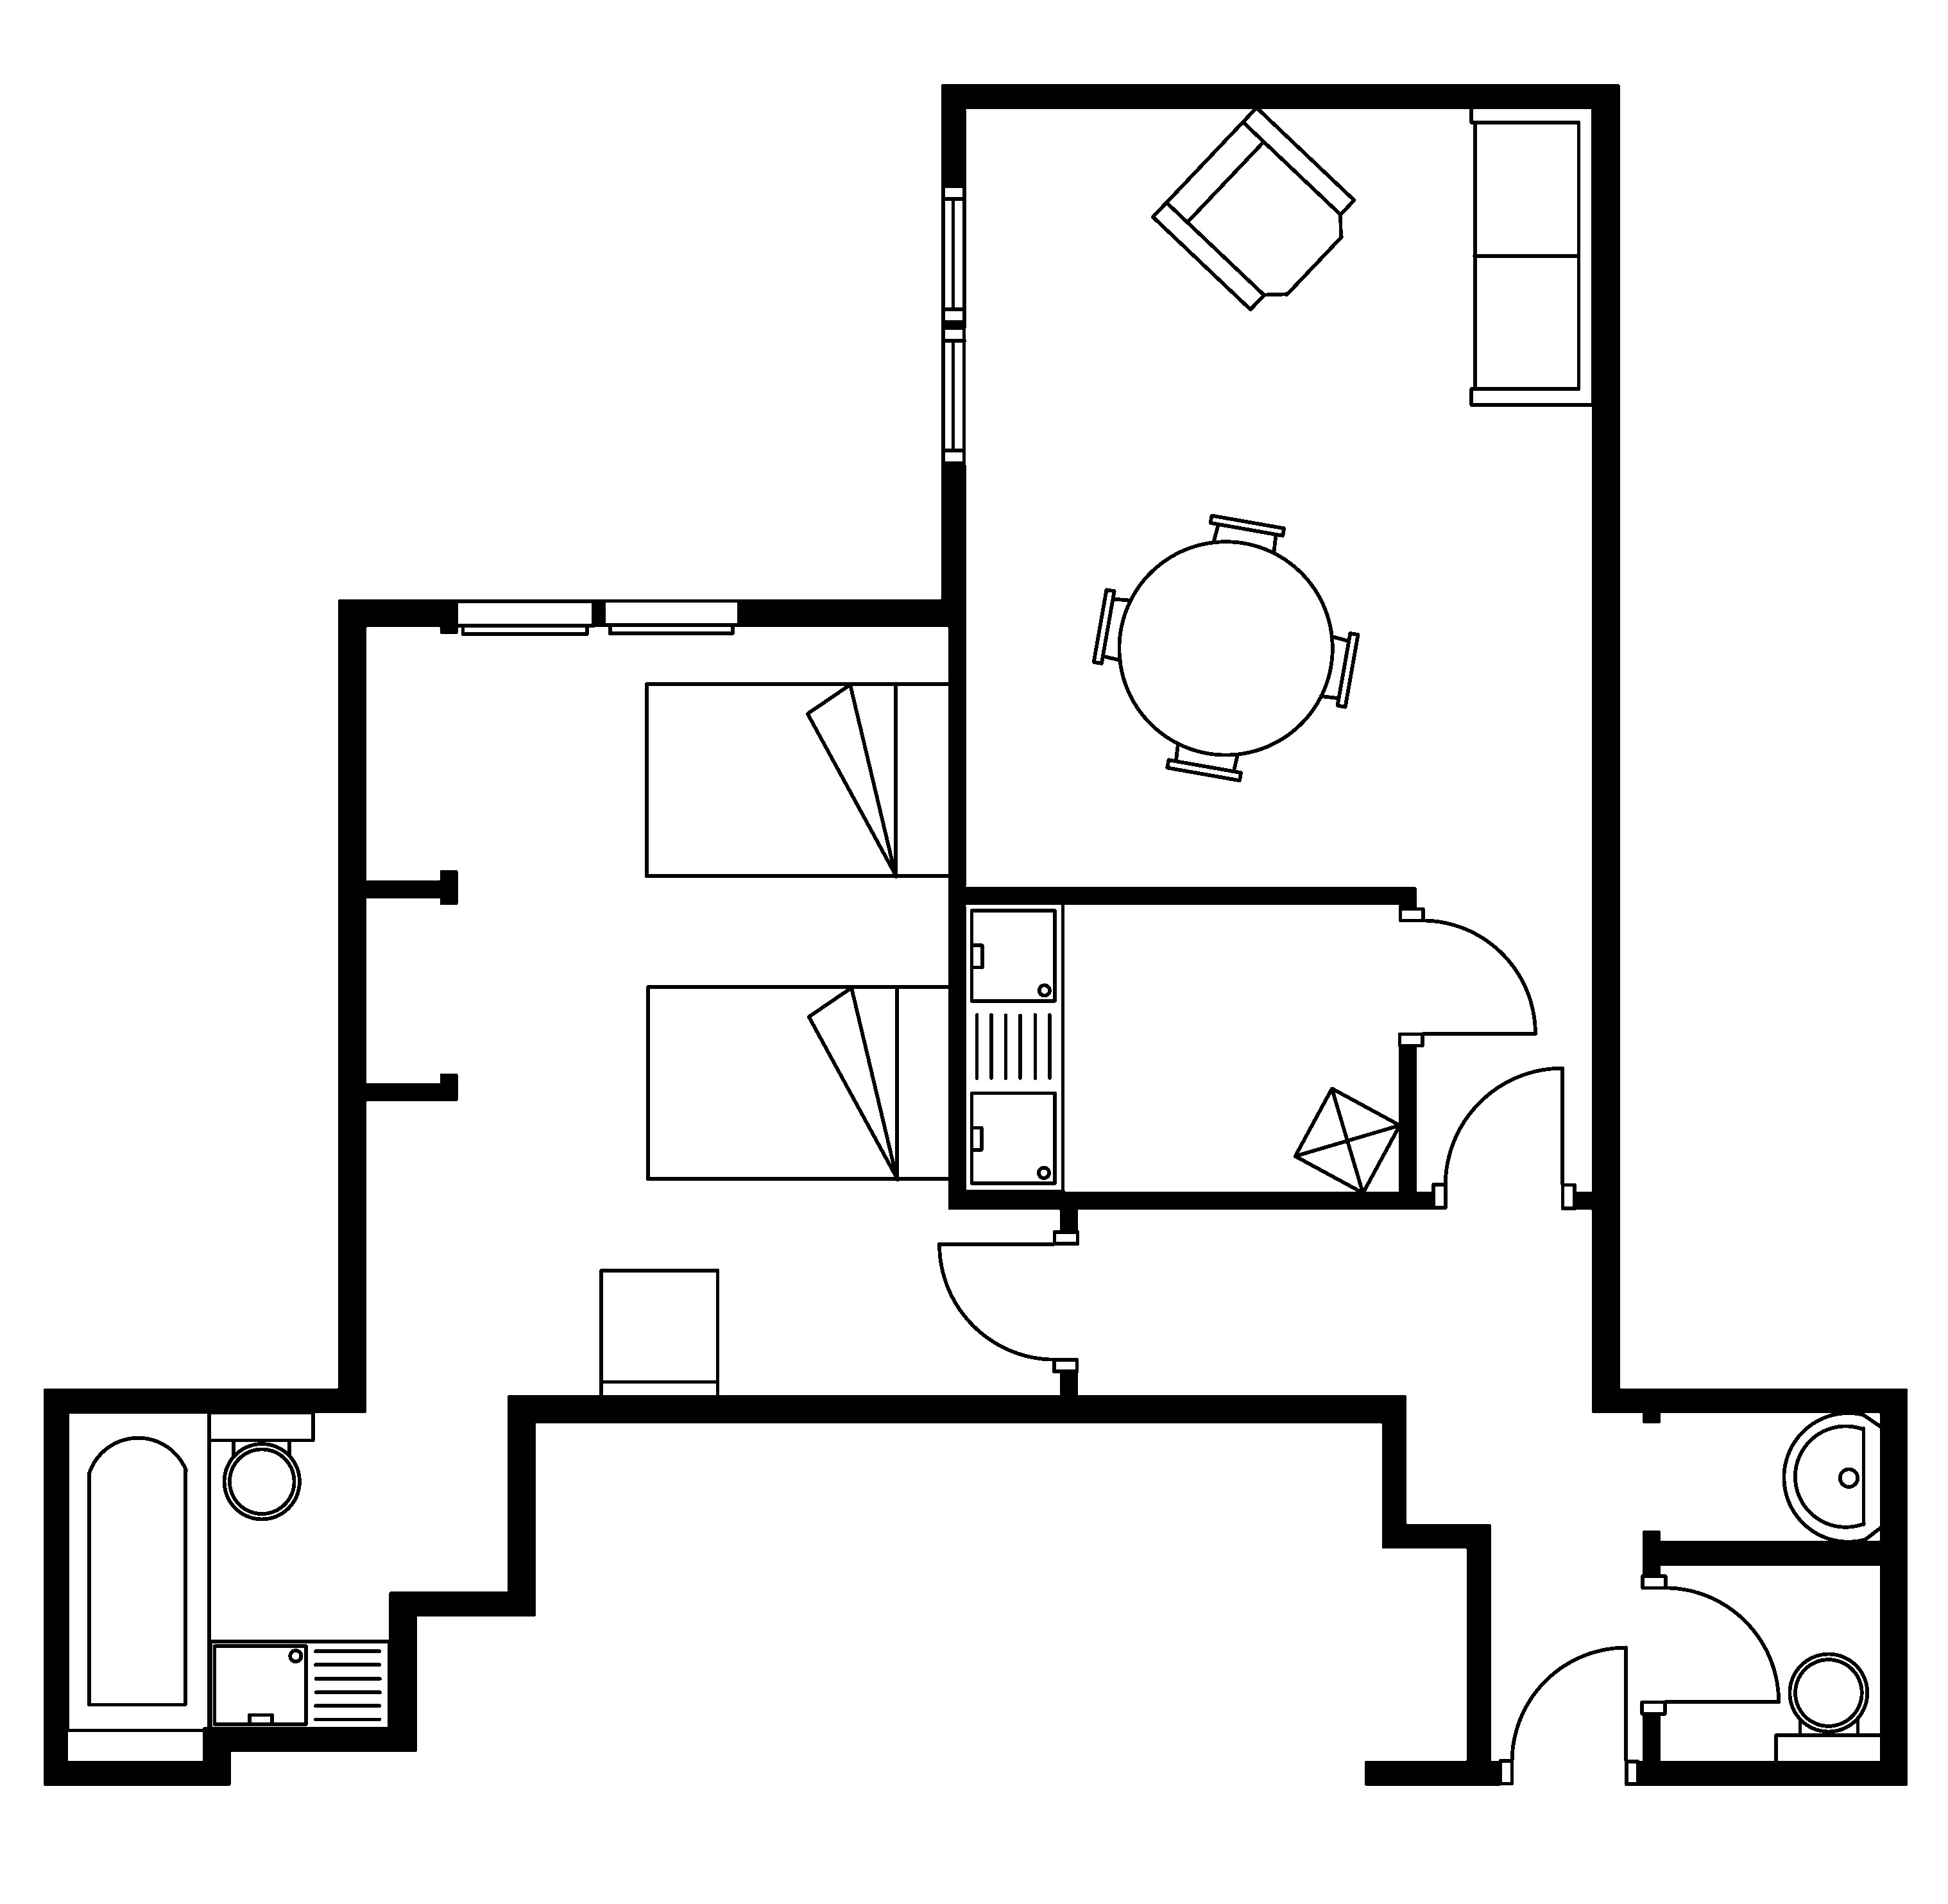armchair: (1149, 105, 1355, 312)
bed: (644, 680, 952, 879), (645, 983, 954, 1182)
coffee_table: (1292, 1086, 1402, 1194)
large_sink: (1774, 1653, 1885, 1766), (206, 1411, 316, 1520)
large_sofa: (1468, 105, 1596, 406)
round_table: (1090, 513, 1360, 783)
sink: (208, 1639, 391, 1731)
small_sink: (1782, 1411, 1883, 1543)
small_sofa: (598, 1268, 719, 1402)
tub: (65, 1409, 211, 1733)
twin_sink: (961, 900, 1066, 1194)
